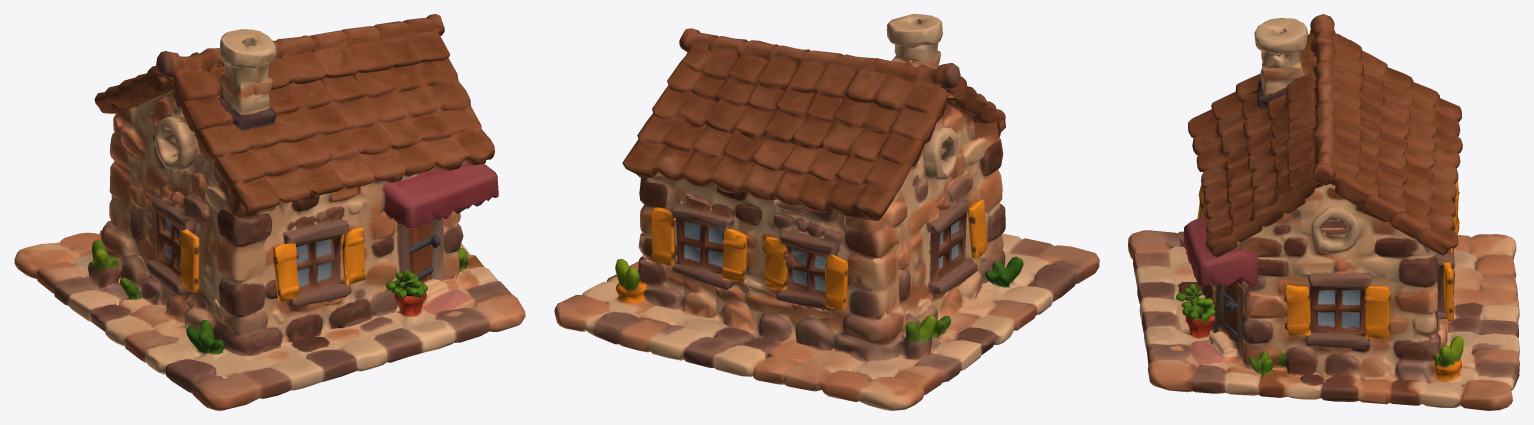
File: hesta-house.glb
3 renders of one model, left to right at view 1: azimuth 30°, elevation 25°; view 2: azimuth 150°, elevation 25°; view 3: azimuth 270°, elevation 25°, orthographic. The views are drawn at different scales.
Bounding box in the file's own units: 4.85 × 3.58 × 4.71.
Materials: 1 (1 with a texture image).
